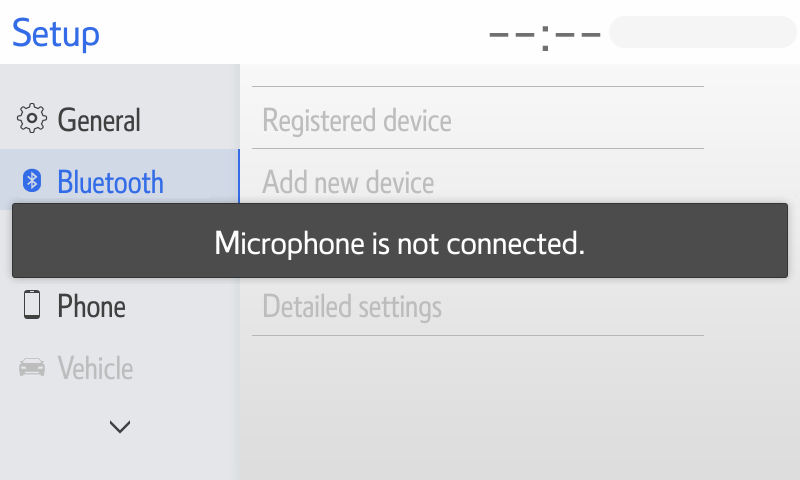touchPart: (1, 90, 236, 153), (17, 288, 136, 325), (105, 413, 144, 445)
untouchPart: (252, 273, 706, 343), (252, 82, 708, 150), (252, 145, 709, 212), (479, 13, 799, 54), (19, 349, 140, 390), (17, 166, 172, 194), (13, 15, 102, 53)
